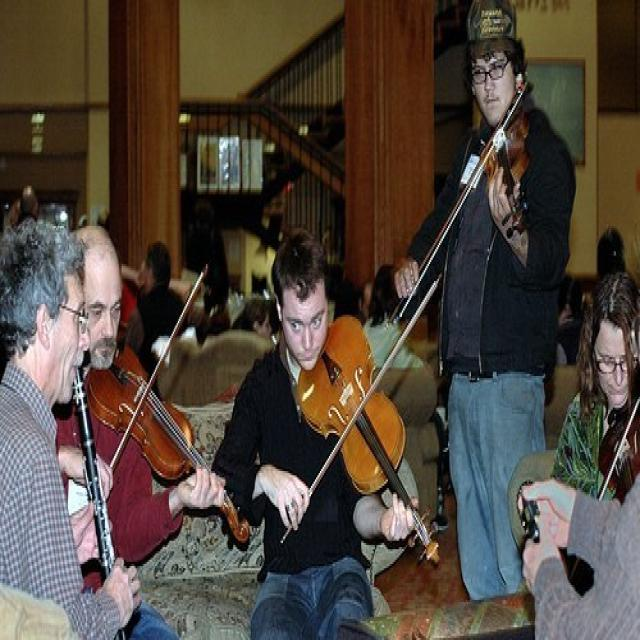clarinet: (69, 364, 136, 638)
violin: (293, 314, 446, 570), (85, 342, 253, 551), (480, 101, 534, 246), (596, 402, 639, 518)
